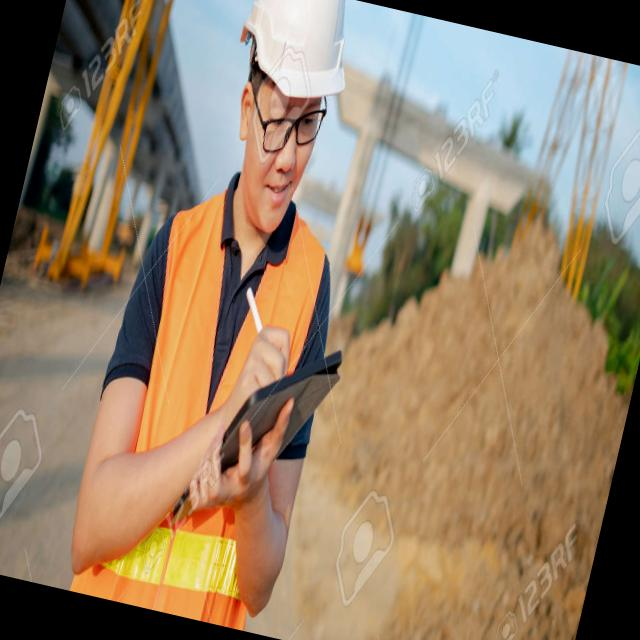goggles: (234, 84, 333, 168)
helmet: (225, 0, 365, 113)
vest: (67, 176, 340, 631)
